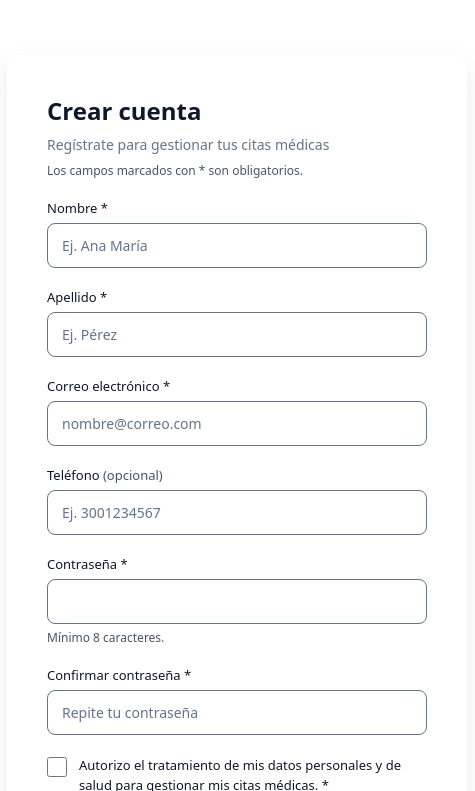
Test: HU-01 registro › correo repetido: lo marca en el campo
Type "Ana" into the field with id "registro-nombre" at (237, 246), box [47, 223, 427, 268]
Type "Pérez" into the field with id "registro-apellido" at (237, 334), box [47, 312, 427, 357]
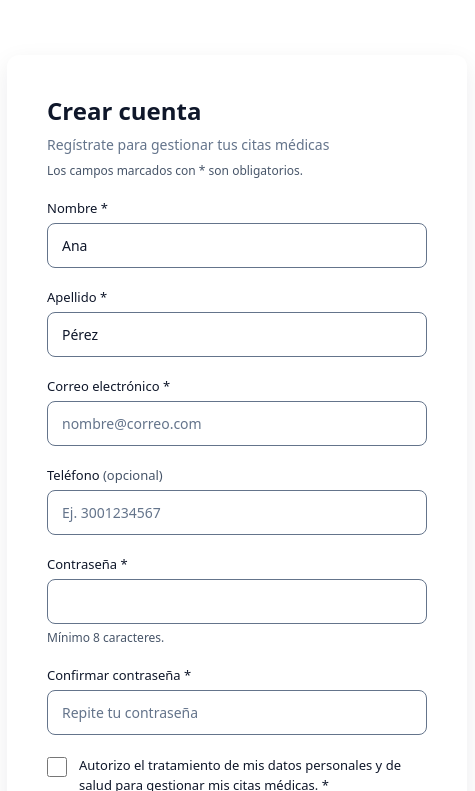
Type "ana@correo.com" into the field with id "registro-correo" at (237, 424), box [47, 401, 427, 446]
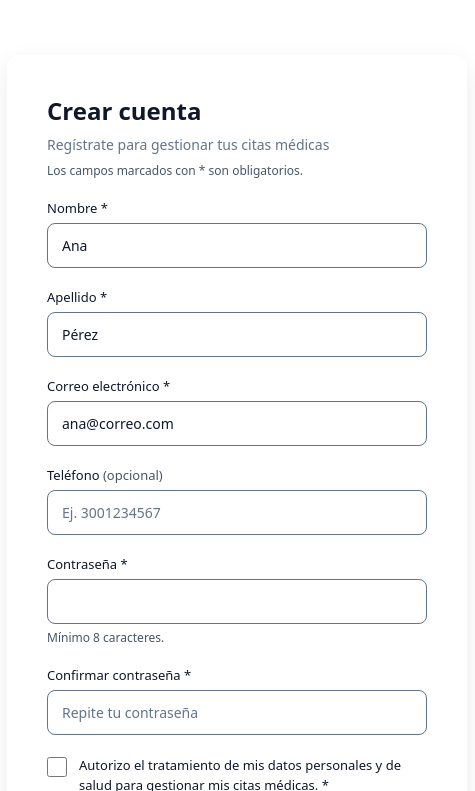
Type "claveSegura1" into the password field with id "registro-contrasena" at (237, 602), box [47, 579, 427, 624]
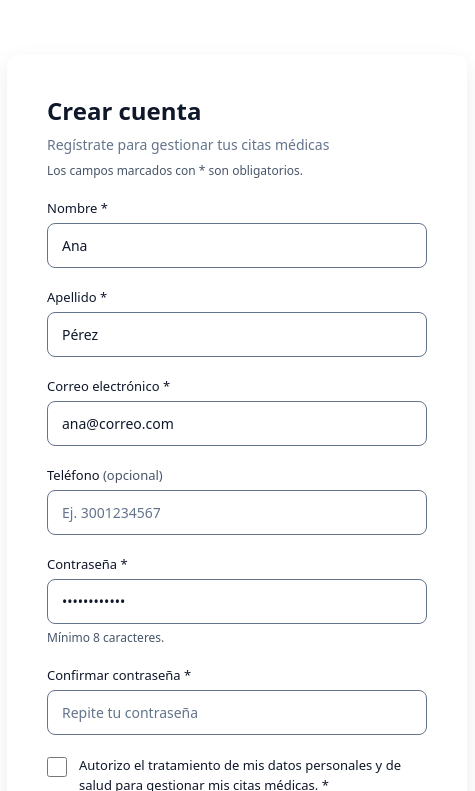
Type "claveSegura1" into the password field with id "registro-confirmarContrasena" at (237, 712), box [47, 690, 427, 735]
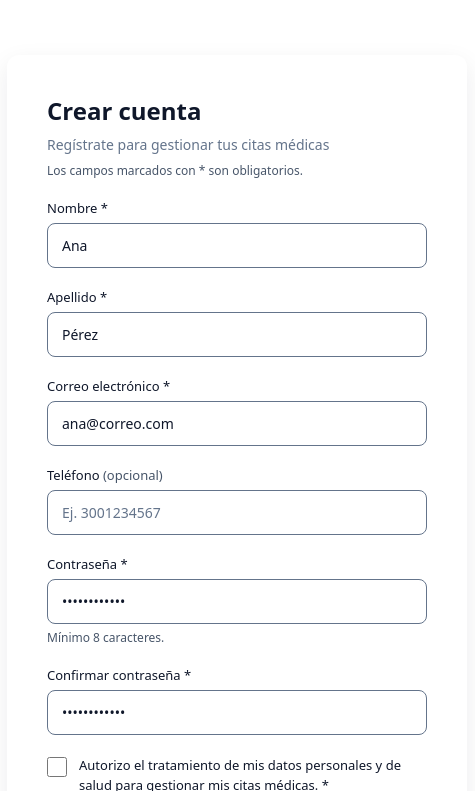
Click the checkbox at (57, 767), box [47, 757, 67, 777]
(page scrolled)
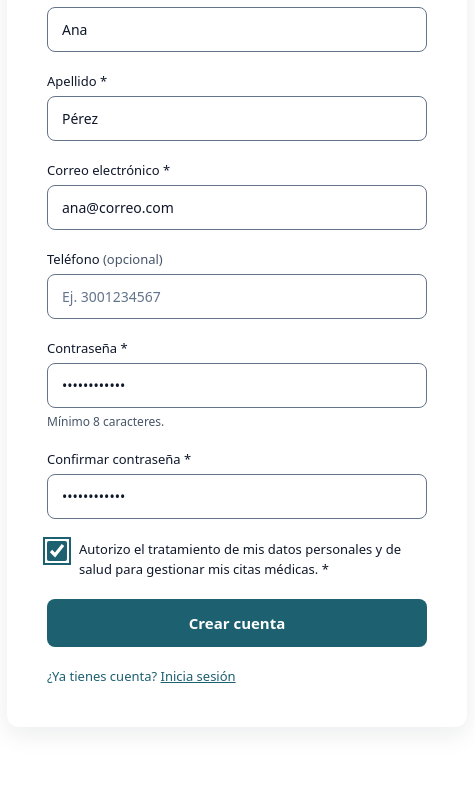
Click the button "Crear cuenta" at (237, 623), box [47, 599, 427, 647]
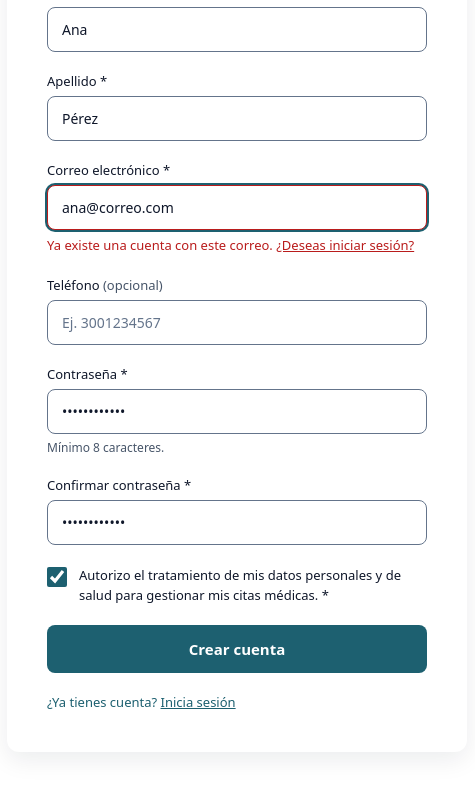
expect the text "Ya existe una cuenta con este correo. ¿Deseas iniciar sesión?" is shown: met, box [47, 236, 414, 256]
